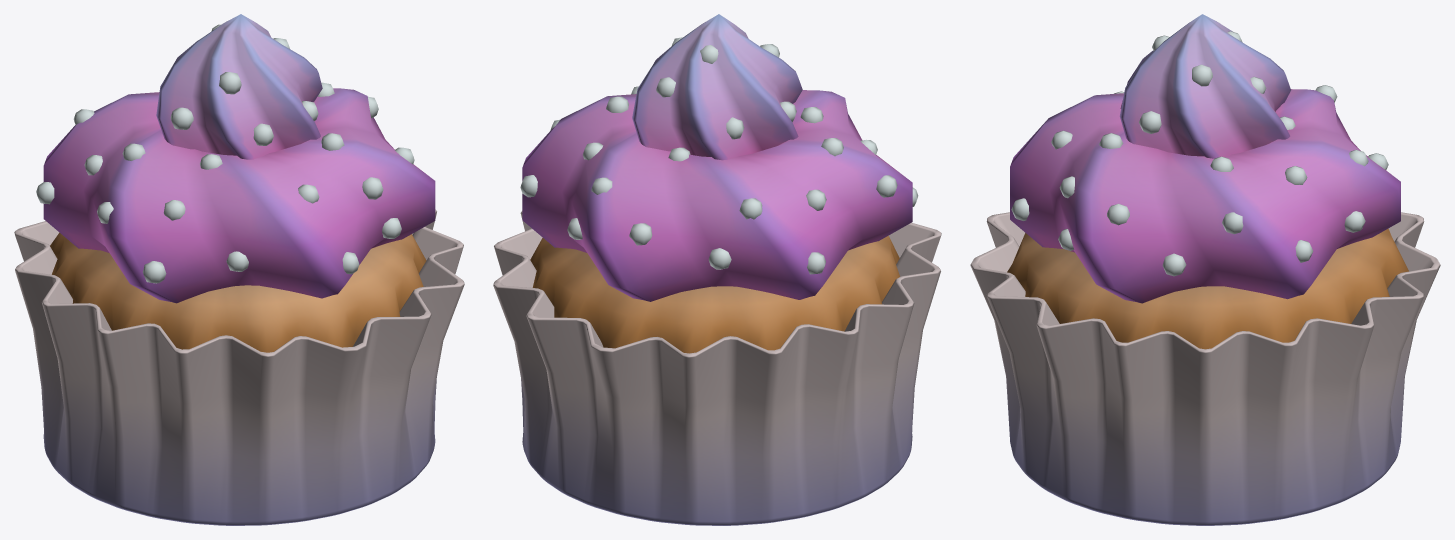
File: Cup Cake.fbx
3 renders of one model, left to right at view 1: azimuth 30°, elevation 25°; view 2: azimuth 150°, elevation 25°; view 3: azimuth 270°, elevation 25°, orthographic.
Parts seen in each view (by area): view 1: Wrapper_low, Cream_low, Dough_low, Powder_low; view 2: Wrapper_low, Cream_low, Dough_low, Powder_low; view 3: Wrapper_low, Cream_low, Dough_low, Powder_low.
Part boxes in pixels (x1=…): Wrapper_low: x1=14, y1=209, x2=464, y2=525; Cream_low: x1=43, y1=14, x2=435, y2=303; Dough_low: x1=50, y1=232, x2=426, y2=352; Powder_low: x1=36, y1=24, x2=414, y2=283; Wrapper_low: x1=493, y1=211, x2=941, y2=525; Cream_low: x1=522, y1=14, x2=912, y2=301; Dough_low: x1=530, y1=235, x2=899, y2=353; Powder_low: x1=520, y1=37, x2=918, y2=274; Wrapper_low: x1=970, y1=212, x2=1440, y2=525; Cream_low: x1=1010, y1=14, x2=1400, y2=303; Dough_low: x1=1007, y1=228, x2=1408, y2=349; Powder_low: x1=1011, y1=31, x2=1388, y2=276.
Bounding box in the file's own units: 36.77 × 38.64 × 38.28.
